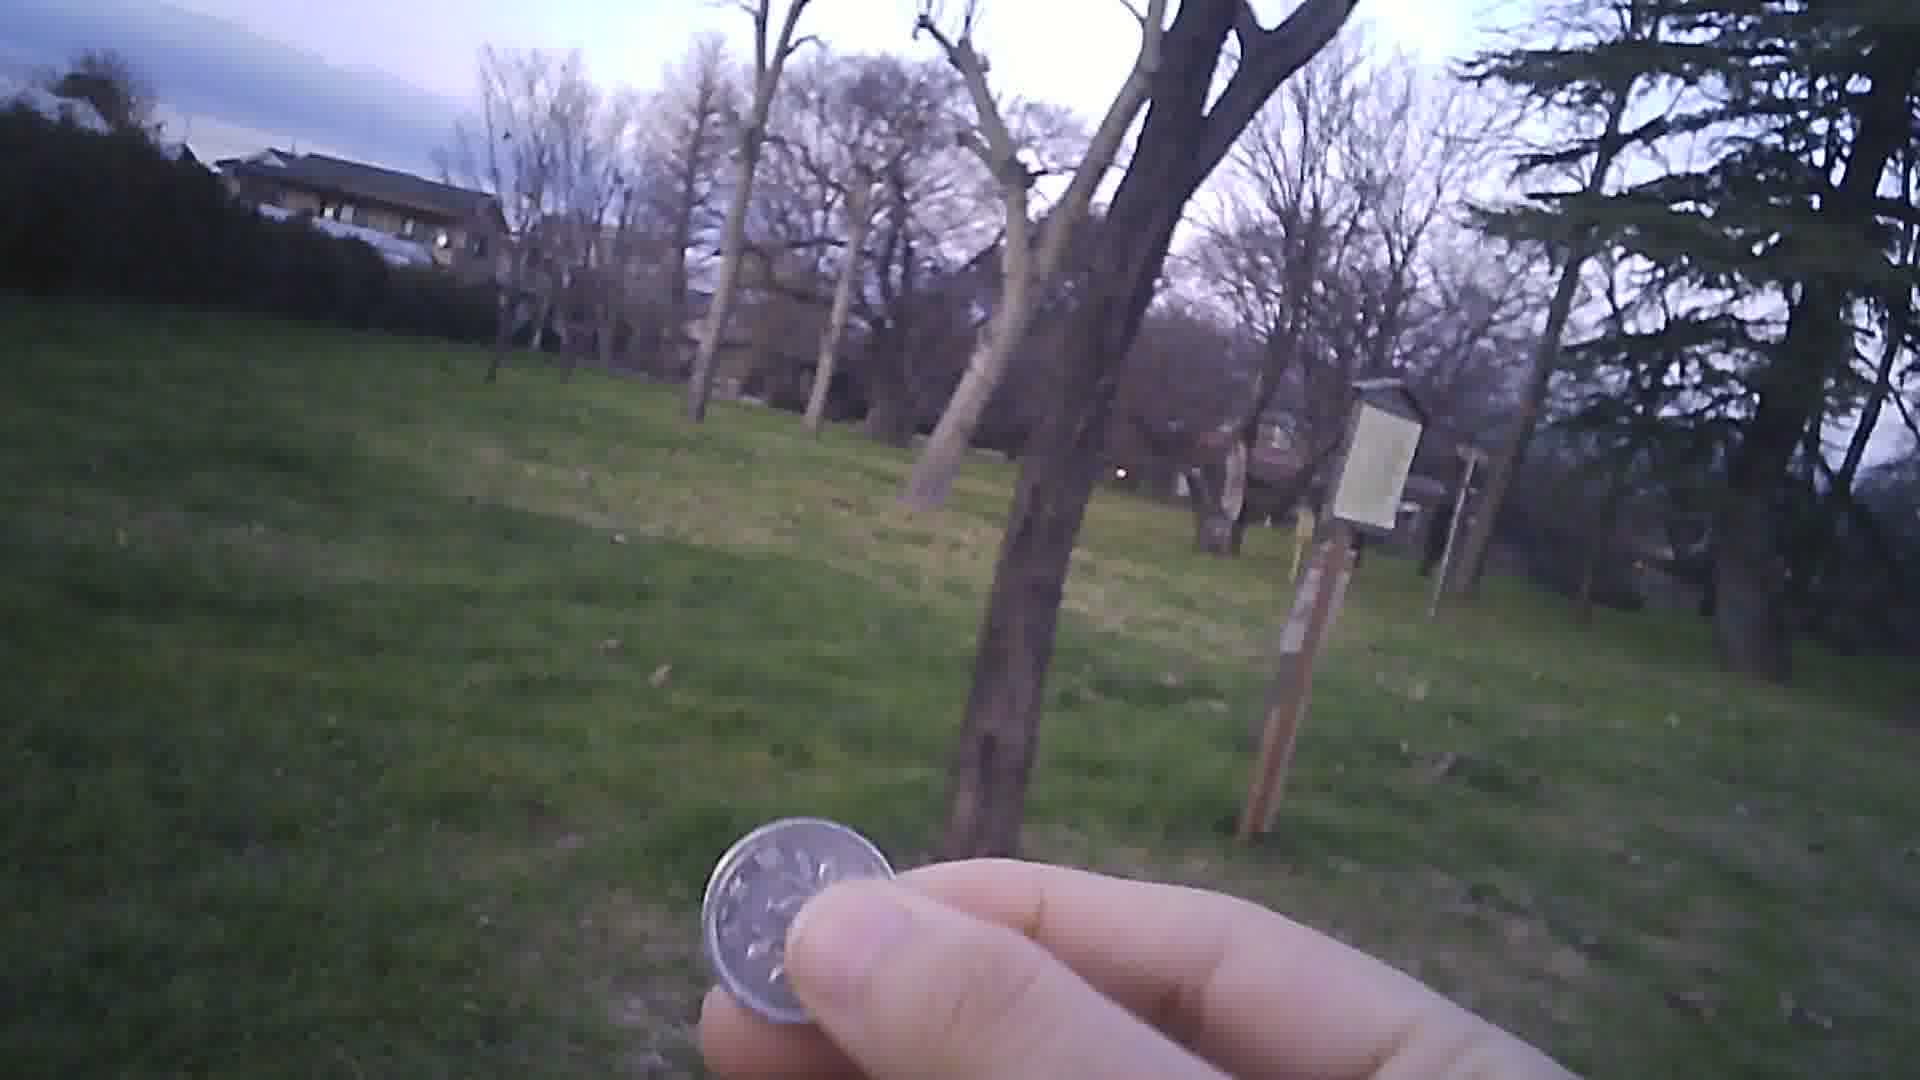1 Yen: (702, 811, 911, 1015)
